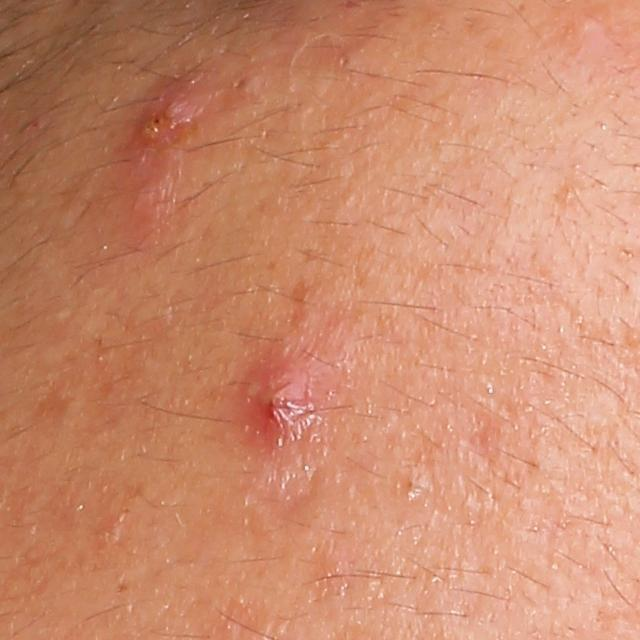papule: (244, 348, 321, 441), (133, 93, 190, 147), (119, 177, 175, 230), (562, 8, 614, 50)
